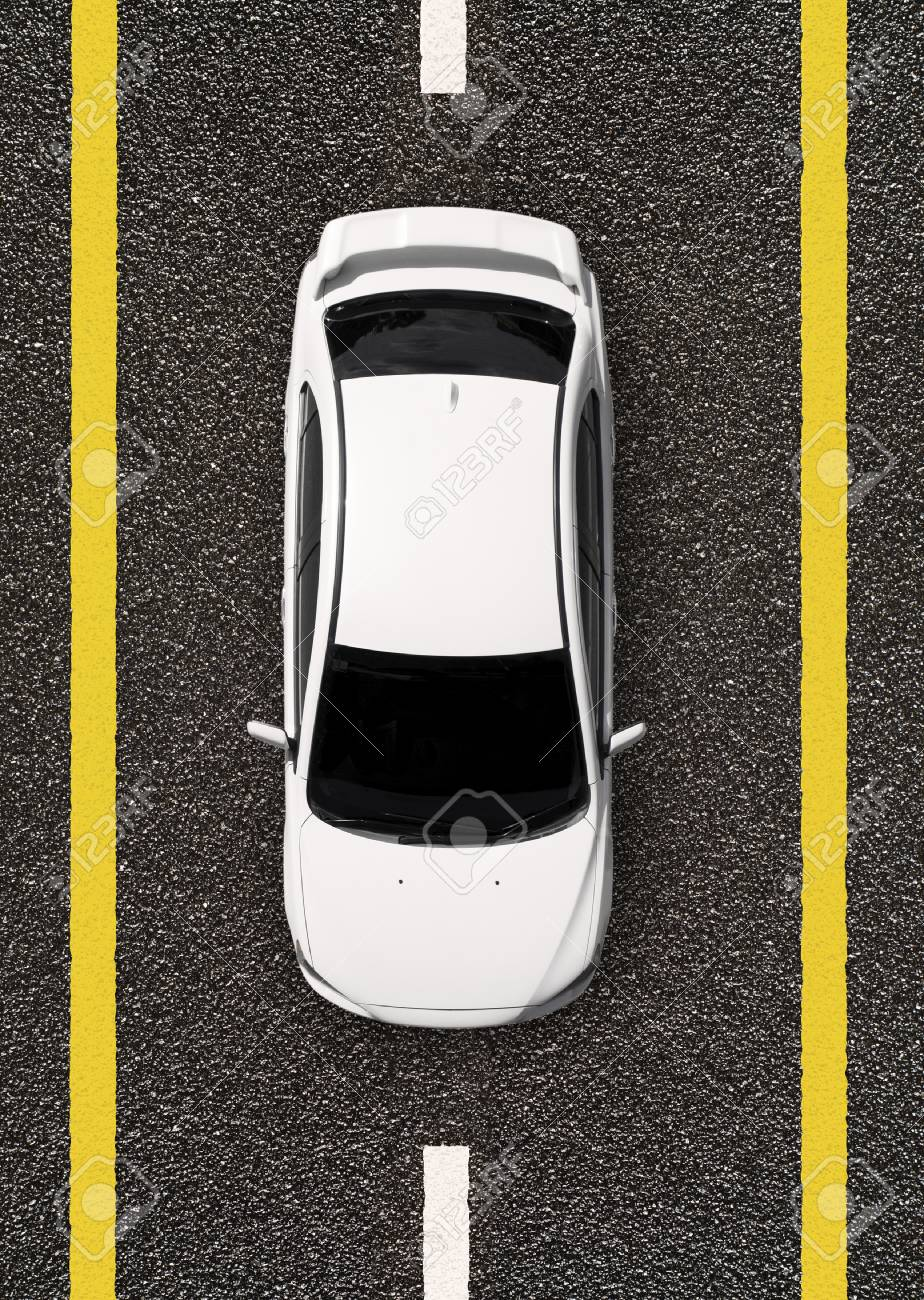Car: (275, 204, 624, 1045)
LaneMark: (427, 1145, 477, 1300), (419, 1, 471, 96)
